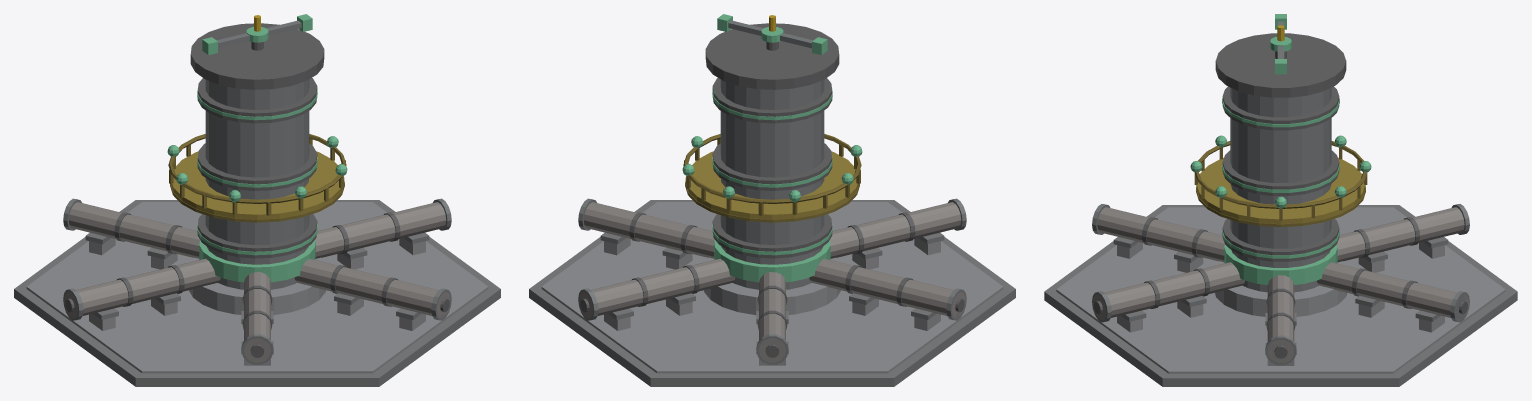
Rendered from distributor_s2_ruin.glb.
3 renders of one model, left to right at view 1: azimuth 30°, elevation 25°; view 2: azimuth 150°, elevation 25°; view 3: azimuth 270°, elevation 25°, orthographic. The views are drawn at different scales.
Parts seen in each view (by area): view 1: D_FoundRim, D_Tower, D_Foundation, D_TowerCap, D_BalconyPlatform, D_PipeWest, D_PipeSE, D_PipeEast, D_PipeNW, D_TowerCollar, D_PipeSW, D_CoreRing (+8 smaller); view 2: D_FoundRim, D_Tower, D_Foundation, D_TowerCap, D_BalconyPlatform, D_PipeWest, D_PipeNE, D_PipeEast, D_PipeSW, D_TowerCollar, D_PipeNW, D_CoreRing (+8 smaller); view 3: D_FoundRim, D_Tower, D_Foundation, D_TowerCap, D_BalconyPlatform, D_PipeSE, D_PipeNE, D_PipeNW, D_PipeSW, D_TowerCollar, D_PipeEast, D_CoreRing (+10 smaller).
Boxes of the visible parts, bbox=[...] form: D_FoundRim: bbox=[26, 202, 488, 373]; D_Tower: bbox=[205, 79, 309, 289]; D_Foundation: bbox=[14, 200, 500, 386]; D_TowerCap: bbox=[190, 23, 324, 89]; D_BalconyPlatform: bbox=[171, 151, 344, 219]; D_PipeWest: bbox=[64, 258, 220, 318]; D_PipeSE: bbox=[294, 259, 449, 318]; D_PipeEast: bbox=[315, 202, 446, 258]; D_PipeNW: bbox=[68, 202, 199, 258]; D_TowerCollar: bbox=[189, 257, 325, 314]; D_PipeSW: bbox=[244, 272, 270, 362]; D_CoreRing: bbox=[199, 240, 315, 282]; D_FoundRim: bbox=[541, 202, 1003, 373]; D_Tower: bbox=[720, 79, 824, 289]; D_Foundation: bbox=[529, 200, 1015, 386]; D_TowerCap: bbox=[705, 23, 839, 89]; D_BalconyPlatform: bbox=[685, 151, 858, 219]; D_PipeWest: bbox=[809, 258, 965, 318]; D_PipeNE: bbox=[579, 259, 735, 318]; D_PipeEast: bbox=[583, 202, 714, 258]; D_PipeSW: bbox=[830, 202, 961, 258]; D_TowerCollar: bbox=[704, 257, 840, 314]; D_PipeNW: bbox=[759, 272, 785, 362]; D_CoreRing: bbox=[714, 240, 830, 282]; D_FoundRim: bbox=[1056, 207, 1505, 373]; D_Tower: bbox=[1230, 87, 1331, 292]; D_Foundation: bbox=[1044, 205, 1517, 386]; D_TowerCap: bbox=[1215, 33, 1346, 97]; D_BalconyPlatform: bbox=[1196, 157, 1365, 223]; D_PipeSE: bbox=[1093, 262, 1244, 319]; D_PipeNE: bbox=[1317, 262, 1468, 319]; D_PipeNW: bbox=[1337, 207, 1464, 262]; D_PipeSW: bbox=[1097, 207, 1224, 262]; D_TowerCollar: bbox=[1214, 261, 1347, 316]; D_PipeEast: bbox=[1267, 275, 1294, 363]; D_CoreRing: bbox=[1224, 244, 1337, 284].
Bounding box in the file's own units: 3.51 × 2.5 × 3.92.
